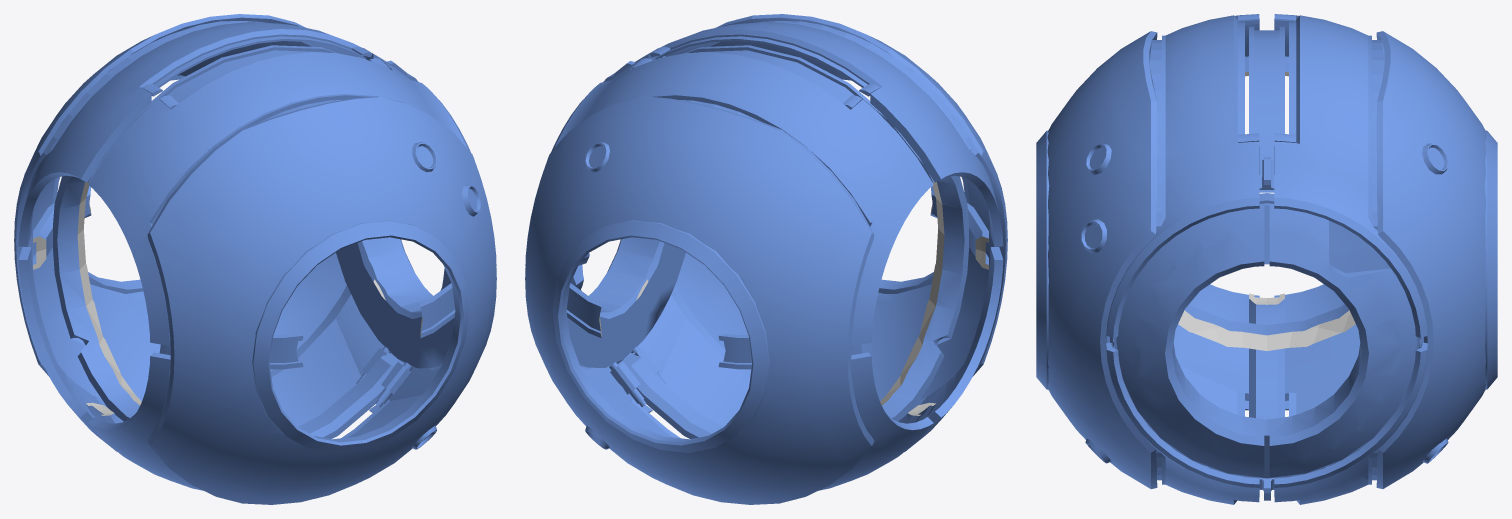
The model's file is chasis_no_rails.obj.
The picture shows the model from 3 angles, left to right: view 1: azimuth 30°, elevation 25°; view 2: azimuth 150°, elevation 25°; view 3: azimuth 270°, elevation 25°; orthographic projection. The views are drawn at different scales.
Visible parts, largest first — view 1: personality_sphere_model; view 2: personality_sphere_model; view 3: personality_sphere_model.
Boxes of the visible parts, x1,y1,x2,y2 form: personality_sphere_model: (14, 14, 496, 504); personality_sphere_model: (525, 14, 1007, 504); personality_sphere_model: (1036, 14, 1497, 504).
Size of the model in its own units: 27.64 by 31.63 by 29.85.
